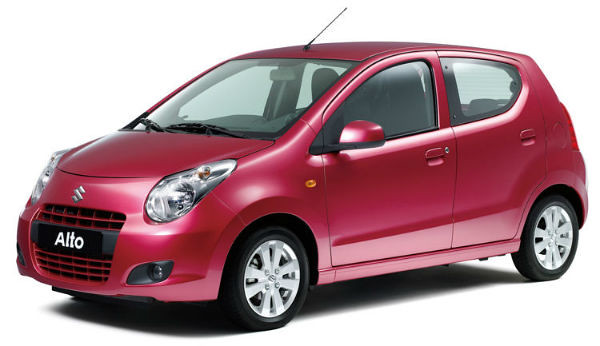car: (14, 6, 600, 331)
